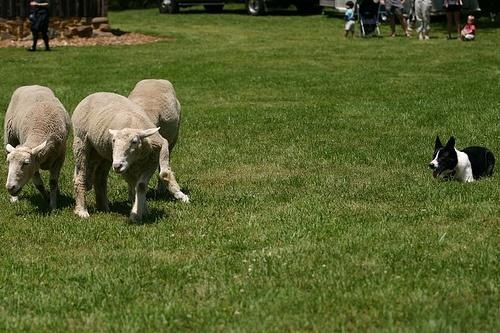dog: (430, 133, 497, 187)
sheep: (72, 83, 163, 224), (1, 83, 72, 216), (129, 78, 189, 202)
